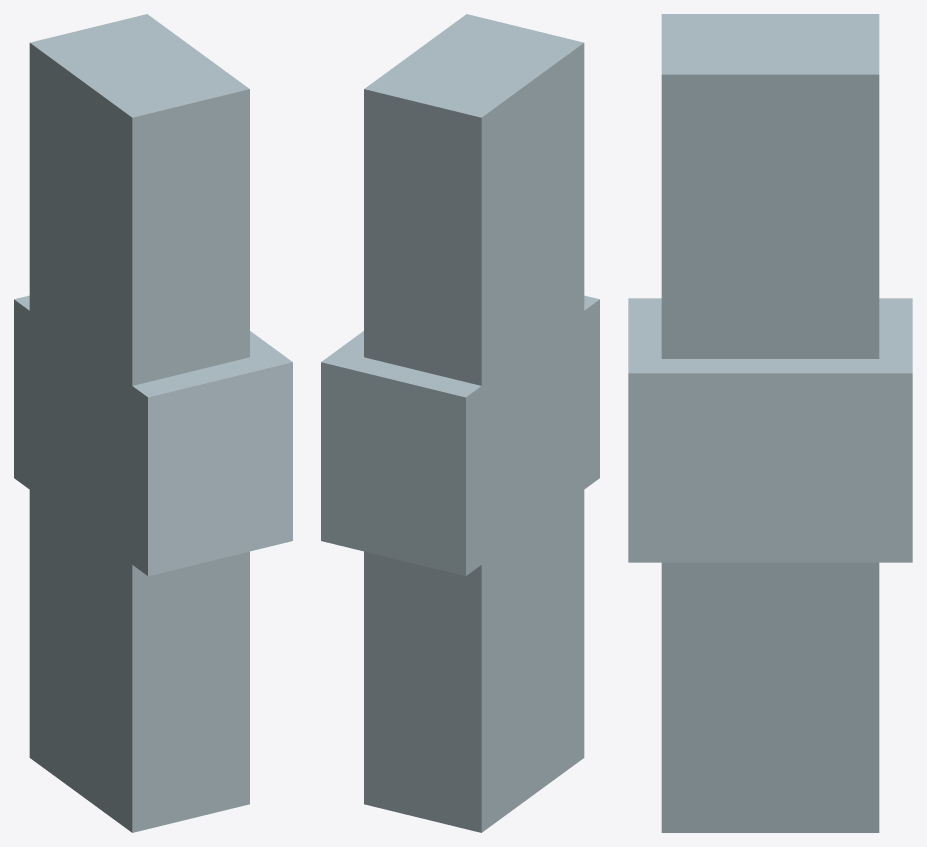
File: chimney.glb
3 renders of one model, left to right at view 1: azimuth 30°, elevation 25°; view 2: azimuth 150°, elevation 25°; view 3: azimuth 270°, elevation 25°, orthographic. The views are drawn at different scales.
Visible parts, largest first — view 1: chimney; view 2: chimney; view 3: chimney.
Boxes of the visible parts, box(x1,y1,x2,y2) form: chimney: box(14, 14, 292, 832); chimney: box(321, 14, 599, 832); chimney: box(628, 14, 912, 832).
Bounding box in the file's own units: 0.2119 × 1 × 0.34.
